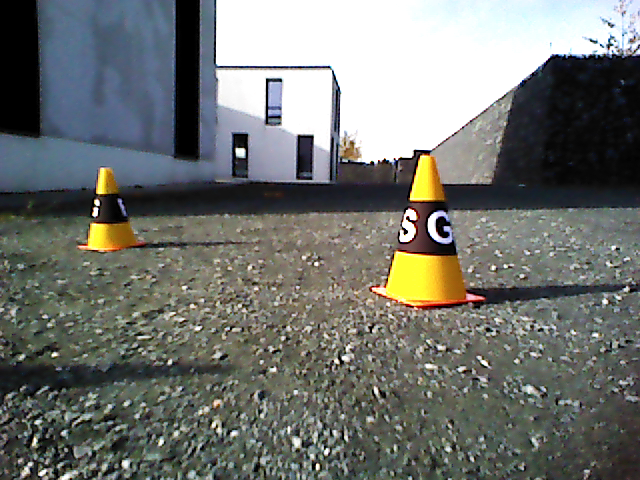yellowcone: (390, 154, 466, 299), (88, 166, 135, 247)
